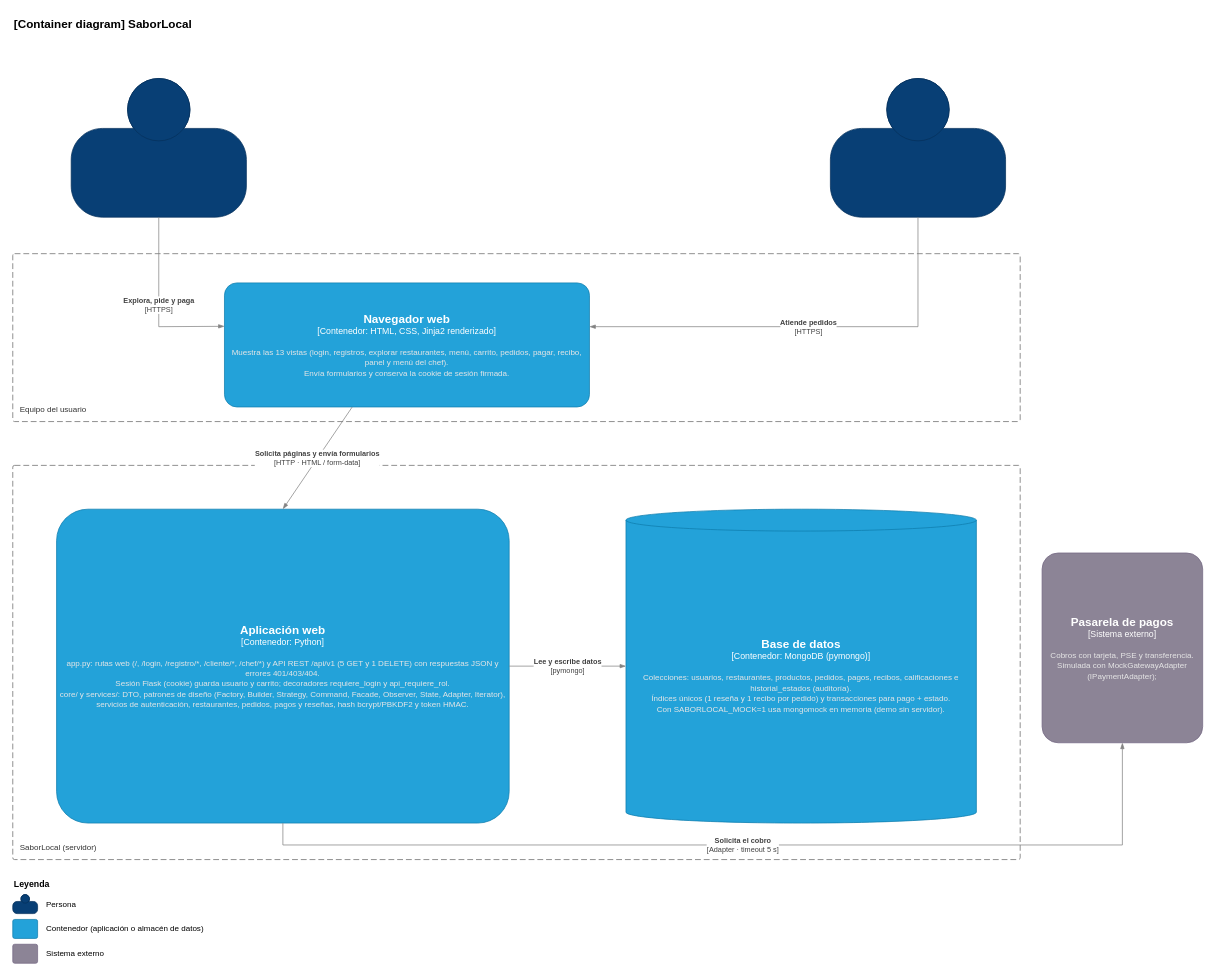
Image size: 1215x976. Some labels were removed from this diagram. Each missing label, with the centre of its shape:
"Chef [Persona] Gestiona restaurante, menú y pedidos." goes at (x=918, y=147).
"Cliente [Persona] Explora, pide, paga, recibe y califica." goes at (x=158, y=147).
